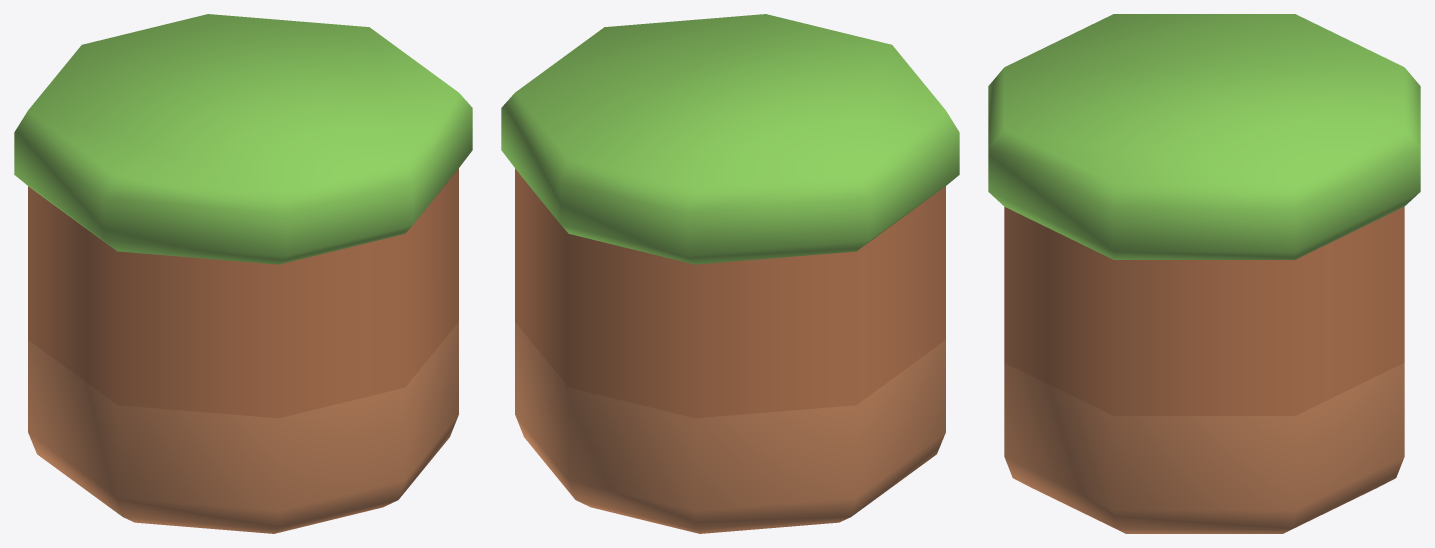
Rendered from 02_one_unique.glb.
3 renders of one model, left to right at view 1: azimuth 30°, elevation 25°; view 2: azimuth 150°, elevation 25°; view 3: azimuth 270°, elevation 25°, orthographic.
Parts seen in each view (by area): view 1: 02_one_unique; view 2: 02_one_unique; view 3: 02_one_unique.
Part boxes in pixels (<box>): 02_one_unique: <box>14,14,472,533</box>; 02_one_unique: <box>501,14,959,533</box>; 02_one_unique: <box>988,14,1420,533</box>.
Bounding box in the file's own units: 0.54 × 0.4992 × 0.5398.
